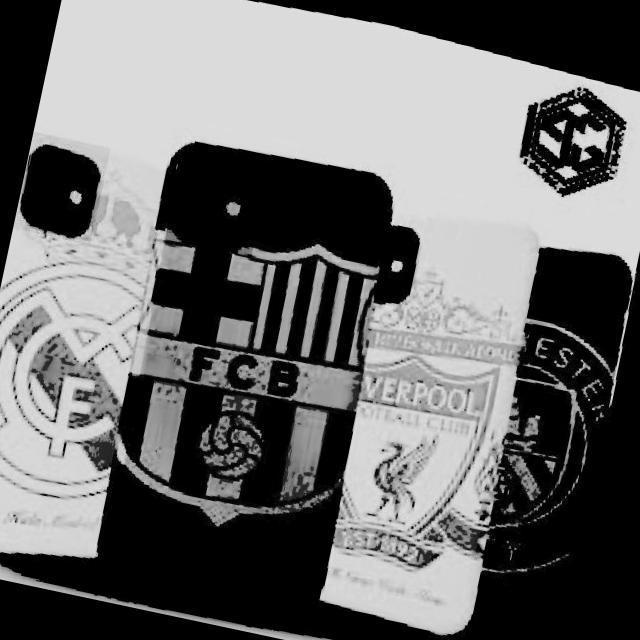lens: (28, 150, 98, 233), (180, 158, 251, 239), (382, 224, 421, 304)
phone: (89, 135, 401, 620), (323, 200, 545, 640), (1, 135, 164, 565), (476, 242, 637, 624)
